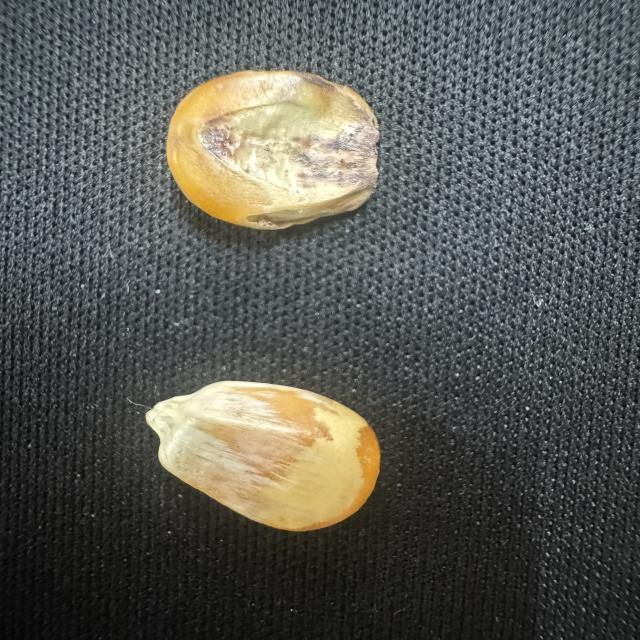Bad-Seed: (141, 378, 386, 533), (162, 66, 386, 233)
